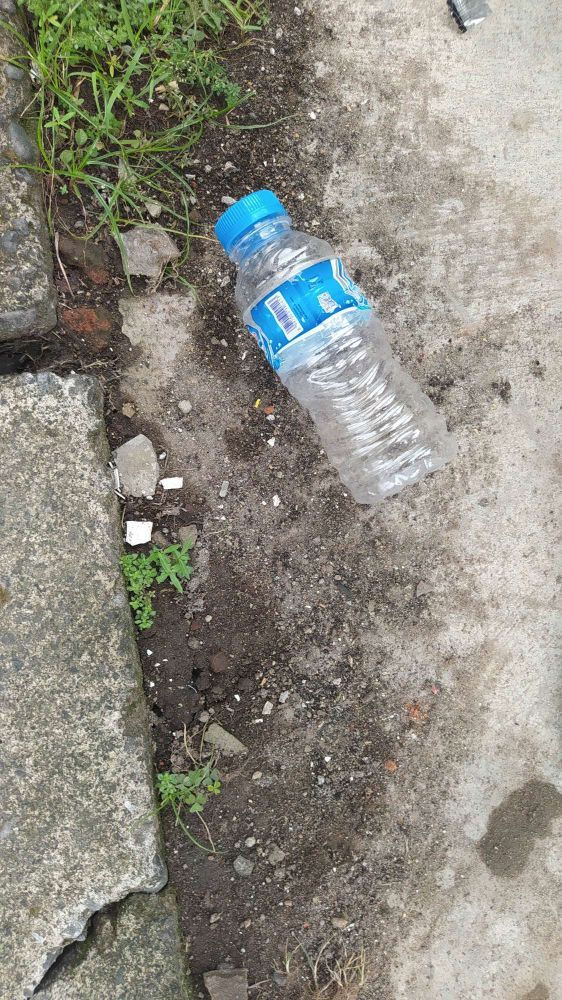botol: (203, 173, 465, 518)
